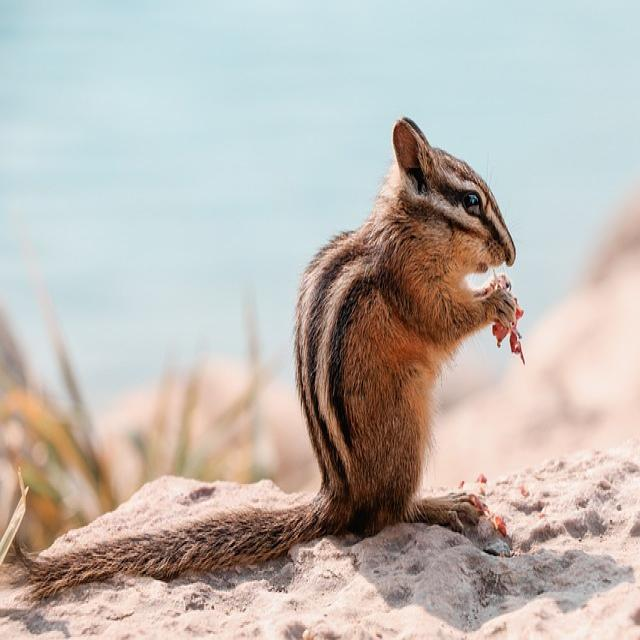Herbivorous: (292, 118, 524, 543)
